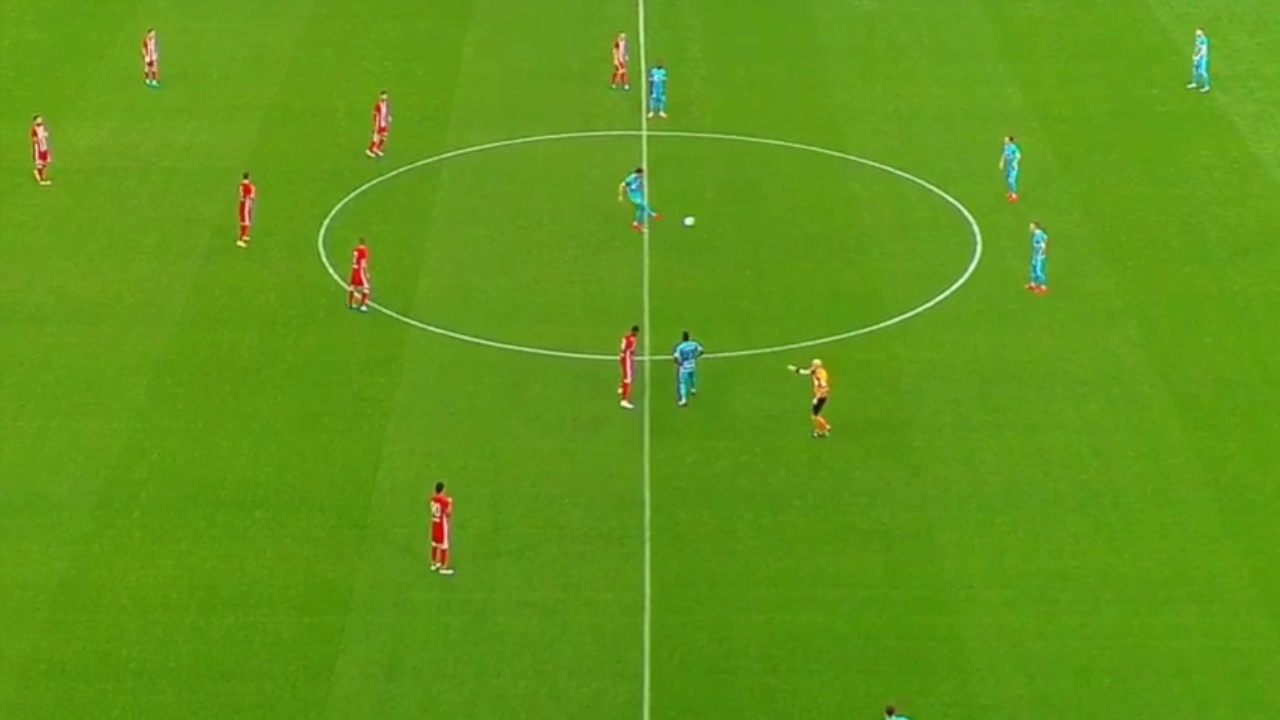ball: (683, 216, 696, 225)
person: (616, 165, 667, 236), (428, 477, 456, 575), (614, 323, 643, 408), (348, 236, 374, 313), (1027, 216, 1052, 293), (673, 333, 699, 405), (998, 136, 1024, 202), (138, 25, 163, 91), (368, 87, 391, 158), (235, 169, 255, 250), (1189, 22, 1211, 94), (610, 27, 630, 90), (646, 61, 664, 120)
player: (28, 112, 53, 184)
